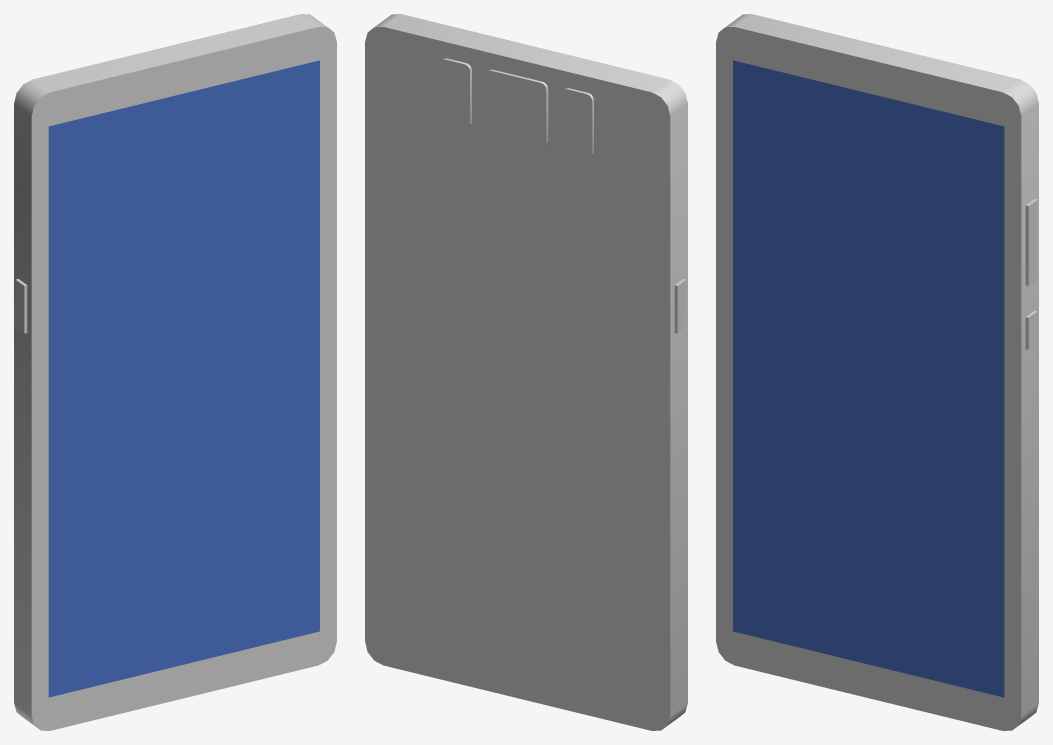
The model's file is Cellphone.fbx.
The picture shows the model from 3 angles, left to right: view 1: azimuth 30°, elevation 25°; view 2: azimuth 150°, elevation 25°; view 3: azimuth 330°, elevation 25°; orthographic projection.
Parts seen in each view (by area): view 1: Screen, Cellphone; view 2: Cellphone; view 3: Screen, Cellphone.
Part boxes in pixels (x1=…): Screen: x1=48, y1=60, x2=319, y2=697; Cellphone: x1=14, y1=14, x2=336, y2=730; Cellphone: x1=365, y1=14, x2=687, y2=730; Screen: x1=733, y1=60, x2=1004, y2=697; Cellphone: x1=716, y1=14, x2=1038, y2=730.
Bounding box in the file's own units: 204 × 400 × 22.04.
